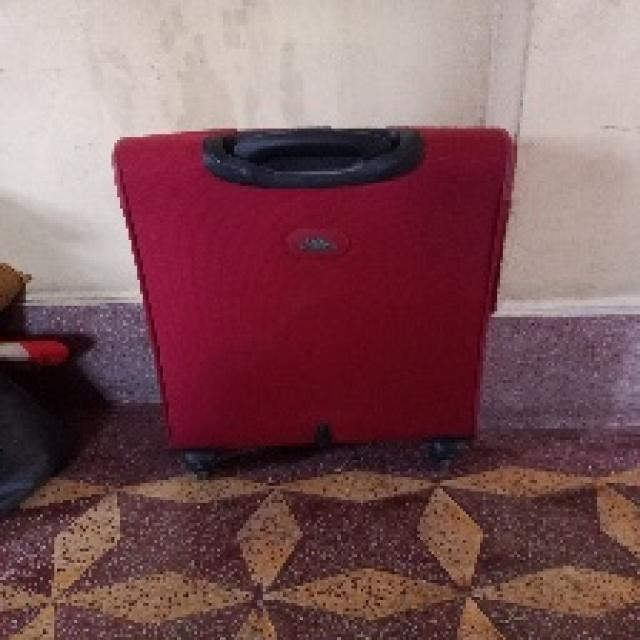Suitcase: (108, 121, 522, 477)
